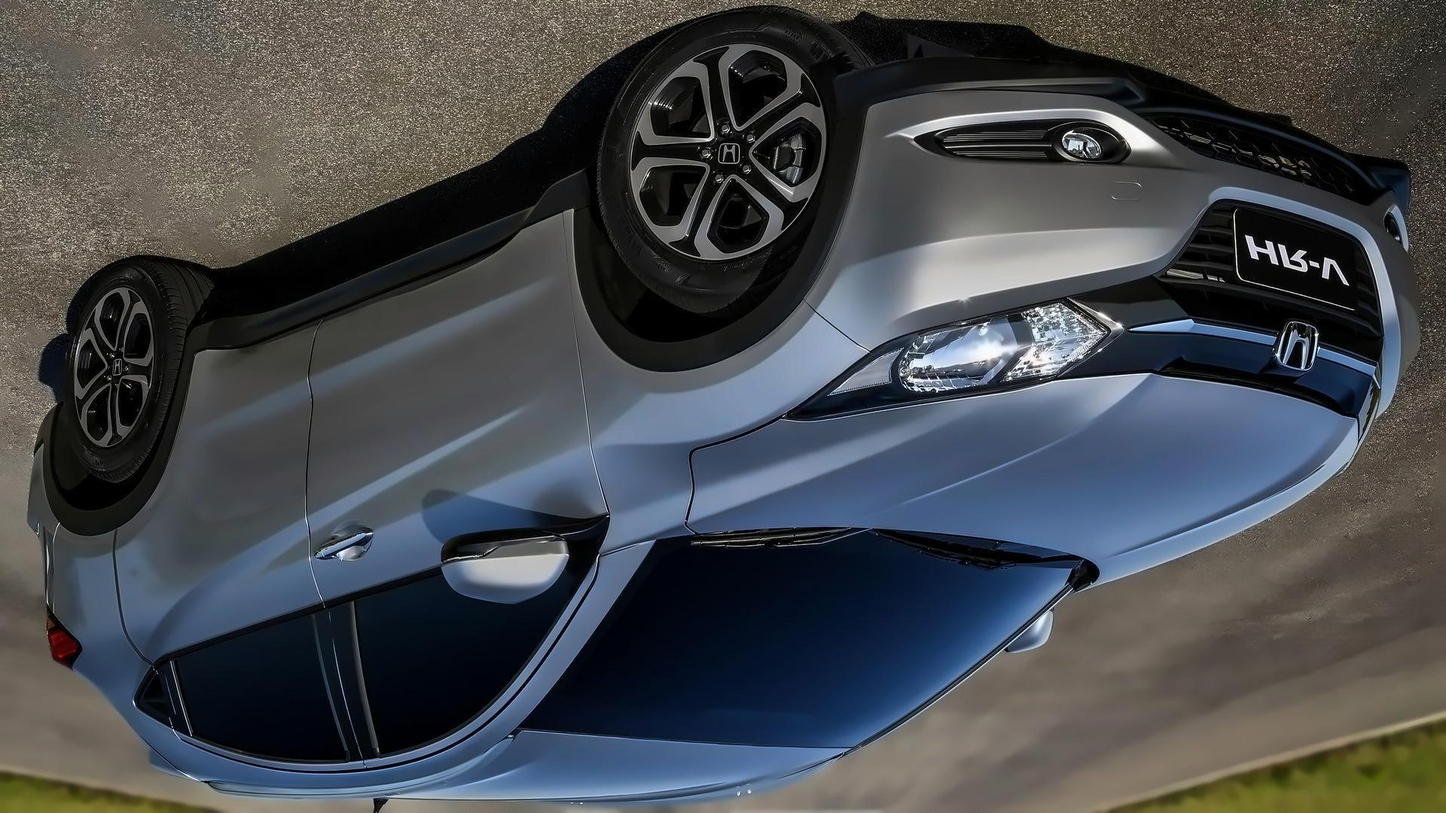Car hood: (683, 368, 1373, 582)
Fender - -F-L-: (543, 156, 891, 555)
Fender - -R-L-: (37, 498, 179, 713)
Front bumper: (793, 45, 1436, 342)
Headlight - -L-: (882, 291, 1127, 412)
Passenger-s door - -F-L-: (309, 197, 613, 768)
Passenger-s door - -R-L-: (112, 343, 354, 766)
Rear bumper: (8, 417, 76, 610)
Rear light - -L-: (35, 594, 96, 685)
Side bumper - -L-: (179, 159, 600, 362)
Side mirror - -L-: (425, 514, 583, 615)
Side mirror - -R-: (989, 601, 1070, 660)
